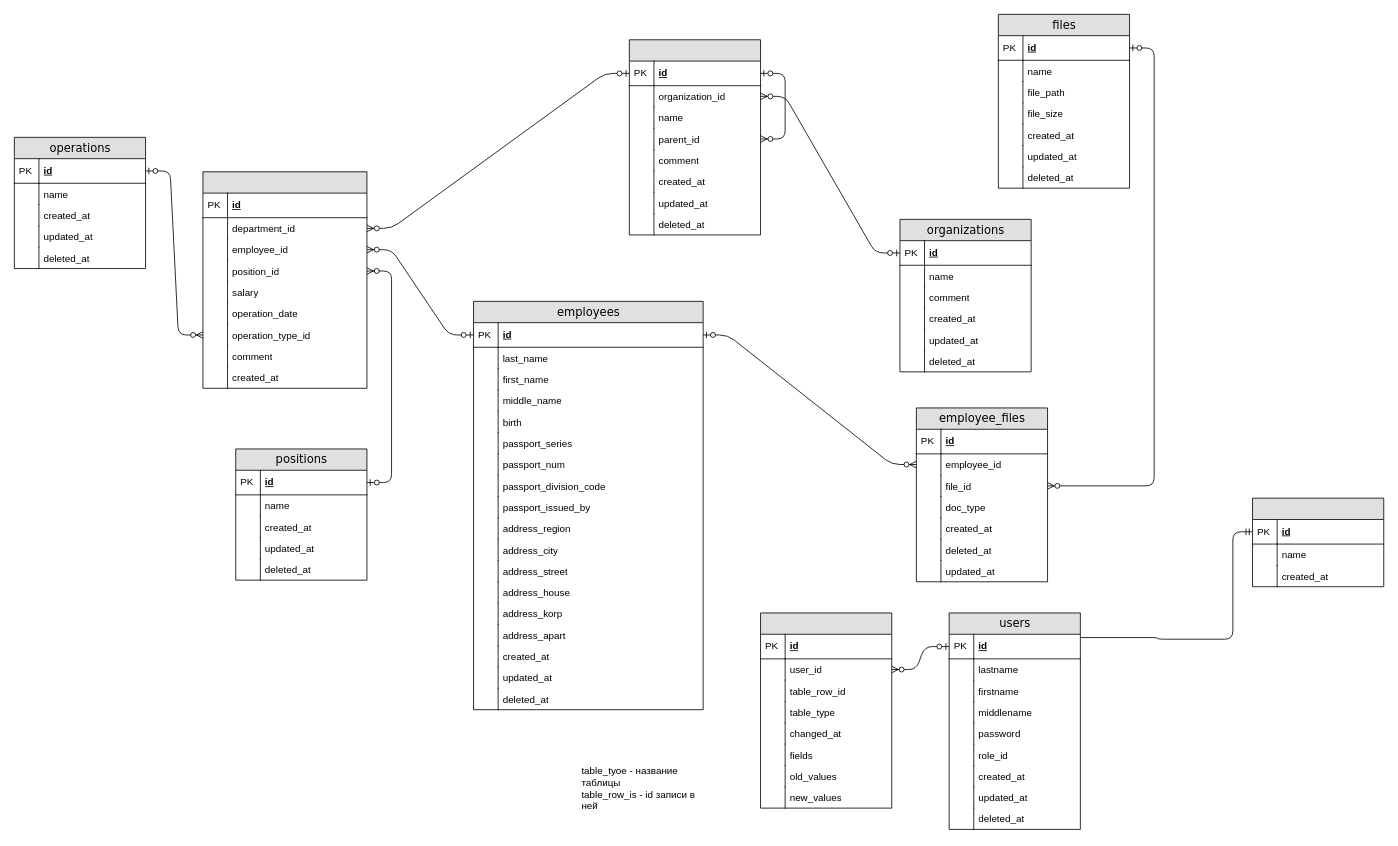
The diagram is 1398 pixels wide and 846 high, and some of its shapes have lost their labels. The shapes that lost their labels are listed below. From the top down, each one's box as (x1, y1, x2, y2) in pixels, then its label:
(629, 39, 761, 235): departments
(202, 171, 367, 388): employee_operations
(1252, 497, 1384, 587): user_roles
(760, 612, 892, 808): history
